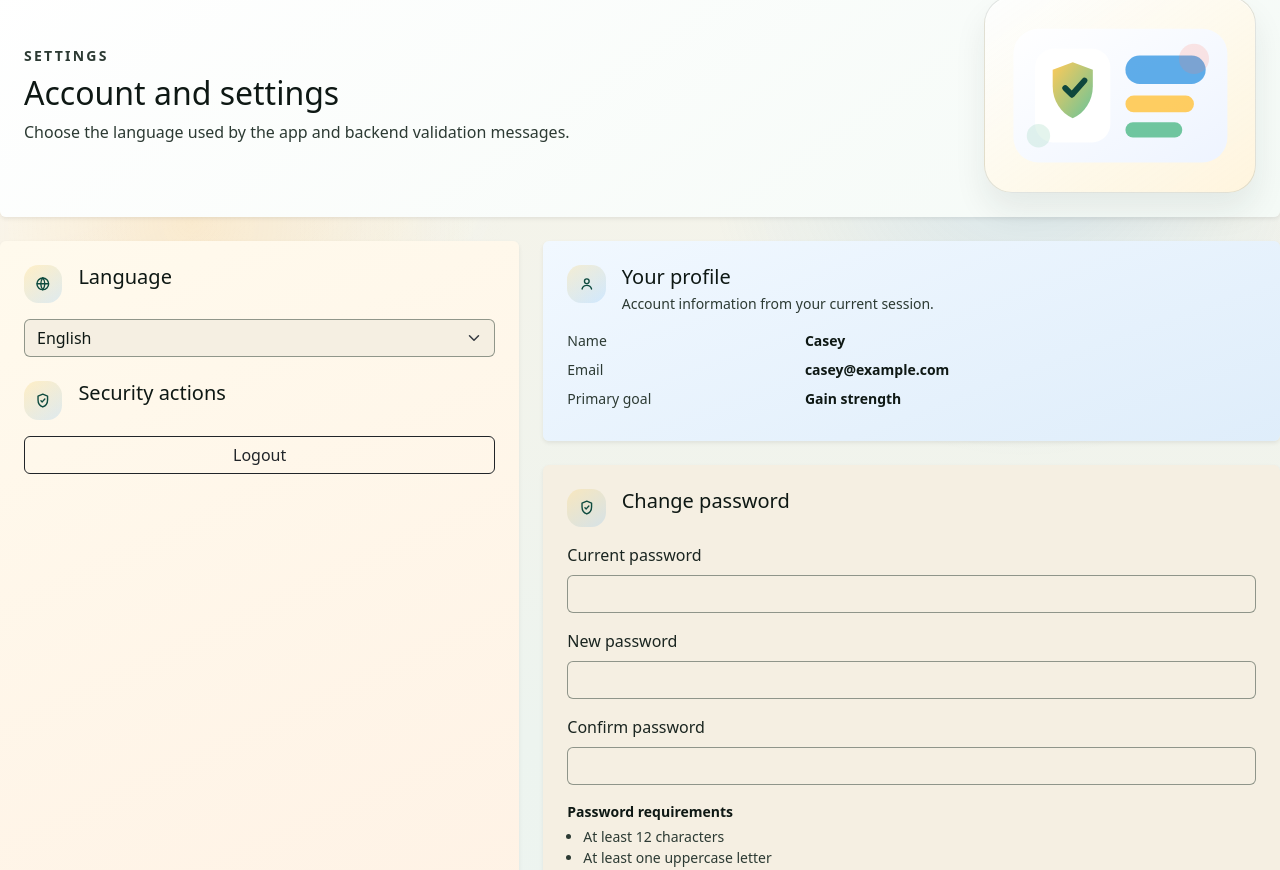
Scenario: SettingsPage › keeps the change password action disabled until the confirmation matches
Type "CurrentSecurePass1!" into the password field labelled "Current password". click: (912, 594)
box: [567,575,1256,613]
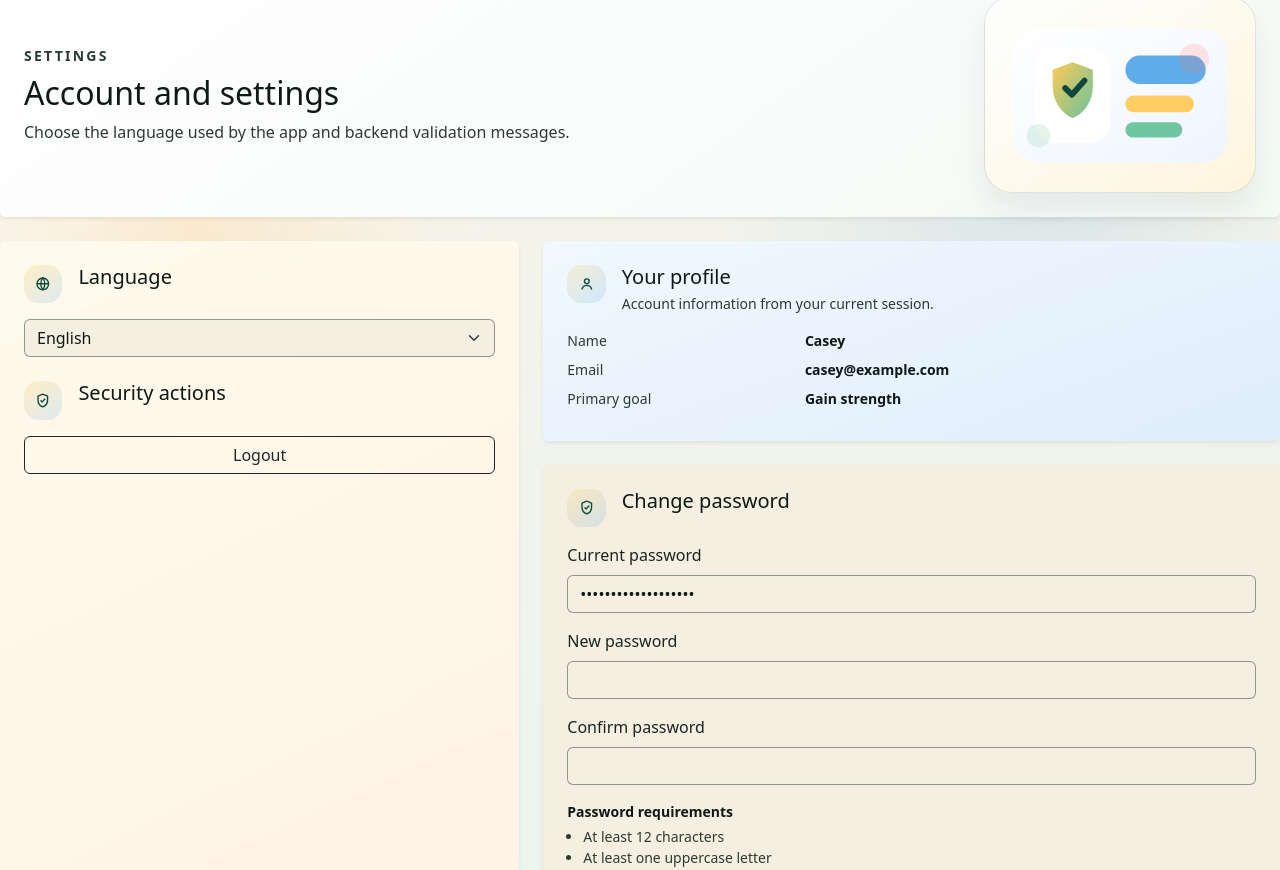
Type "NewSecurePass1!" into the password field labelled "New password". click: (912, 680)
box: [567,661,1256,699]
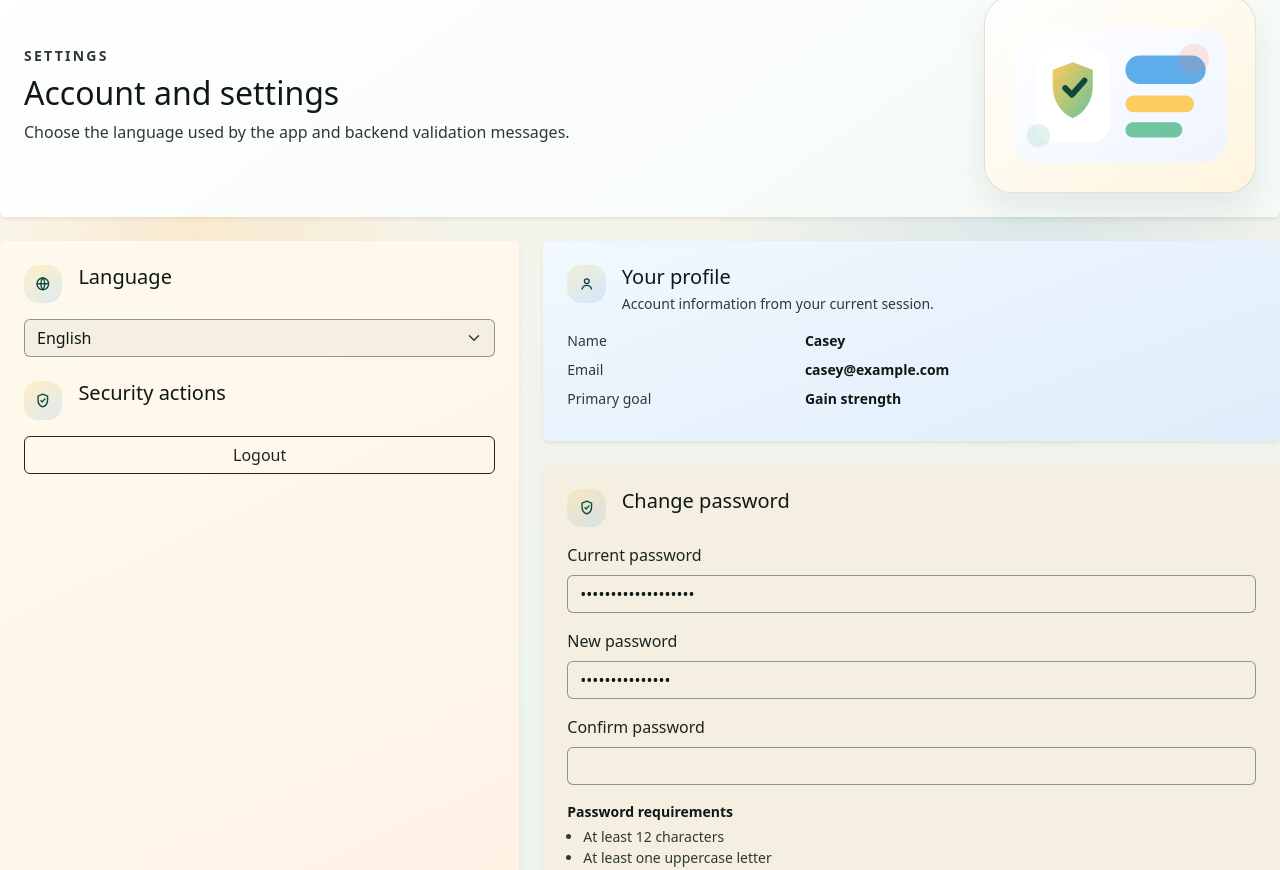
Type "MismatchPass1!" into the password field labelled "Confirm password". click: (912, 766)
box: [567,747,1256,785]
(page scrolled)
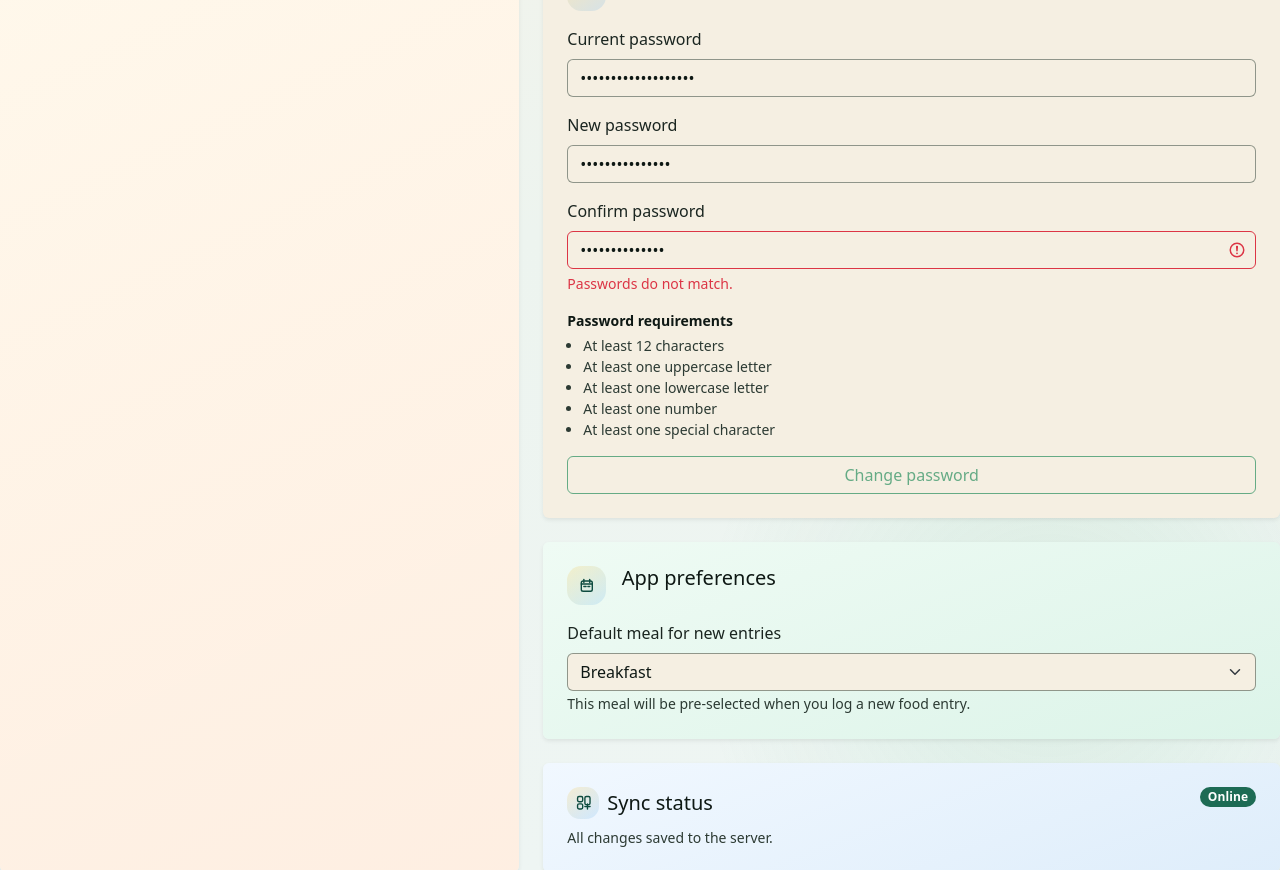
Expected: the button "Change password" is disabled, [567,456,1256,494]
Result: the text "Passwords do not match." is shown at [567,274,733,293]
